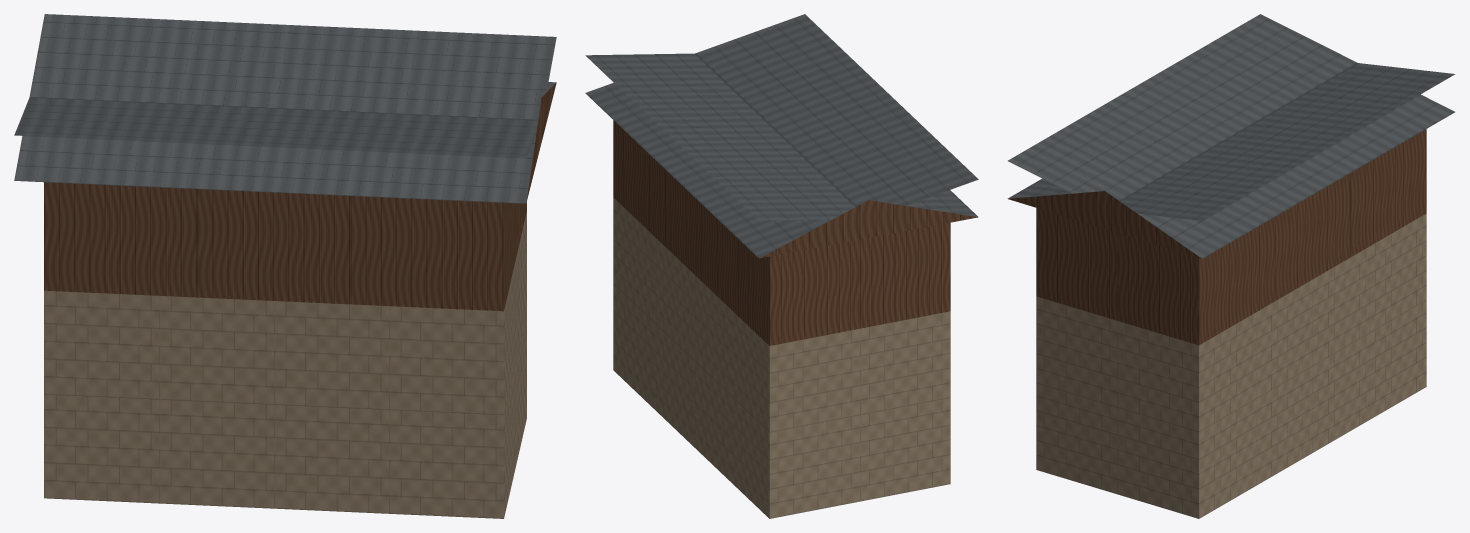
The model's file is bld_c20_44_395.gltf.
3 renders of one model, left to right at view 1: azimuth 30°, elevation 25°; view 2: azimuth 150°, elevation 25°; view 3: azimuth 270°, elevation 25°, orthographic. The views are drawn at different scales.
Visible parts, largest first — view 1: bld_c20_44_395; view 2: bld_c20_44_395; view 3: bld_c20_44_395.
Boxes of the visible parts, bbox=[...] form: bld_c20_44_395: bbox=[14, 14, 556, 518]; bld_c20_44_395: bbox=[585, 14, 978, 518]; bld_c20_44_395: bbox=[1007, 14, 1455, 518].
Size of the model in its own units: 11.71 by 8.2 by 10.72.
4 materials, 4 textured.
